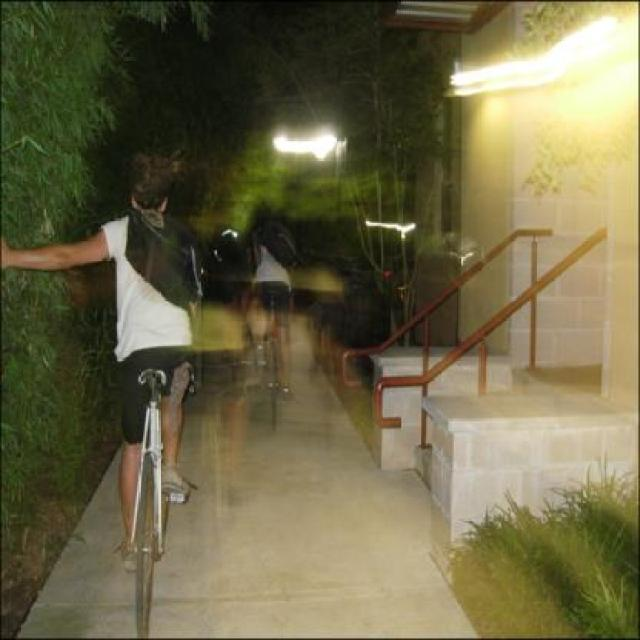stair: (414, 445, 434, 497)
